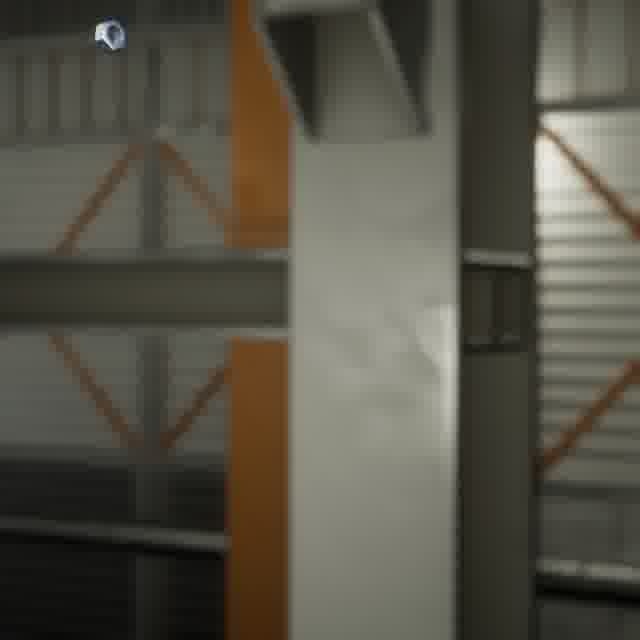nut: (90, 15, 131, 58)
